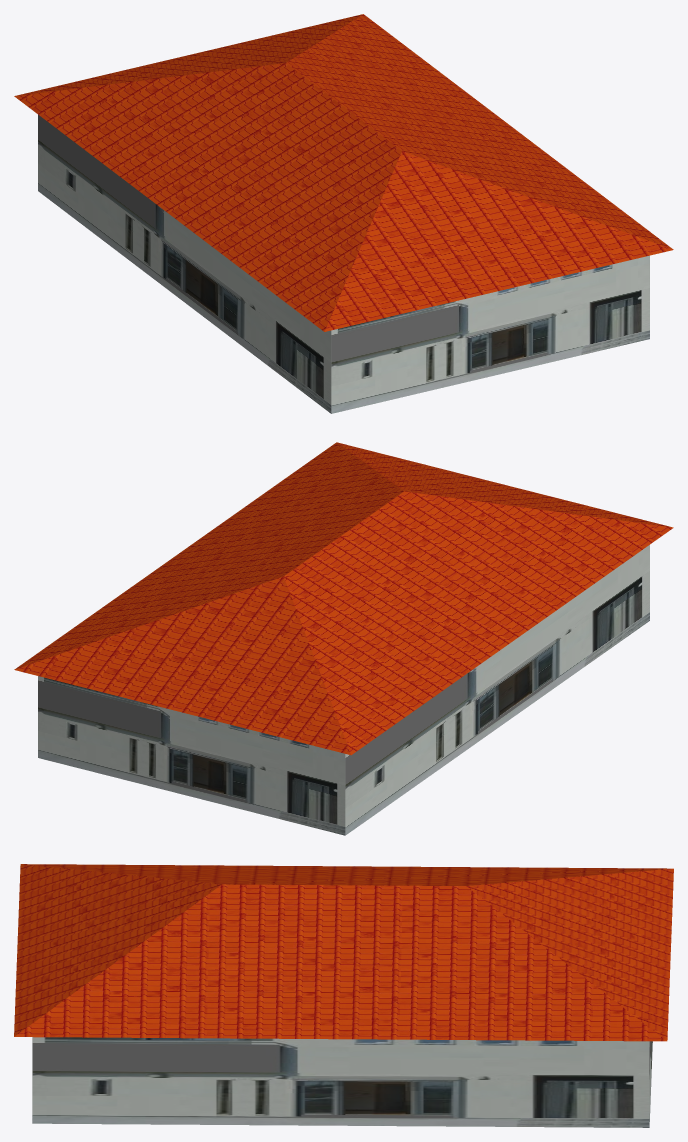
The picture shows the model from 3 angles, top to bottom: view 1: azimuth 30°, elevation 25°; view 2: azimuth 150°, elevation 25°; view 3: azimuth 270°, elevation 25°; orthographic projection. The views are drawn at different scales.
Visible parts, largest first — view 1: CityEngineMaterial_12_m, CityEngineMaterial_11_m; view 2: CityEngineMaterial_12_m, CityEngineMaterial_11_m; view 3: CityEngineMaterial_12_m, CityEngineMaterial_11_m.
Part boxes in pixels (x1=…): CityEngineMaterial_12_m: x1=14, y1=14, x2=673, y2=331; CityEngineMaterial_11_m: x1=38, y1=114, x2=649, y2=413; CityEngineMaterial_12_m: x1=14, y1=442, x2=673, y2=755; CityEngineMaterial_11_m: x1=38, y1=545, x2=649, y2=835; CityEngineMaterial_12_m: x1=14, y1=864, x2=673, y2=1041; CityEngineMaterial_11_m: x1=32, y1=1037, x2=652, y2=1127.
Size of the model in its own units: 21.76 by 9.25 by 34.23.
